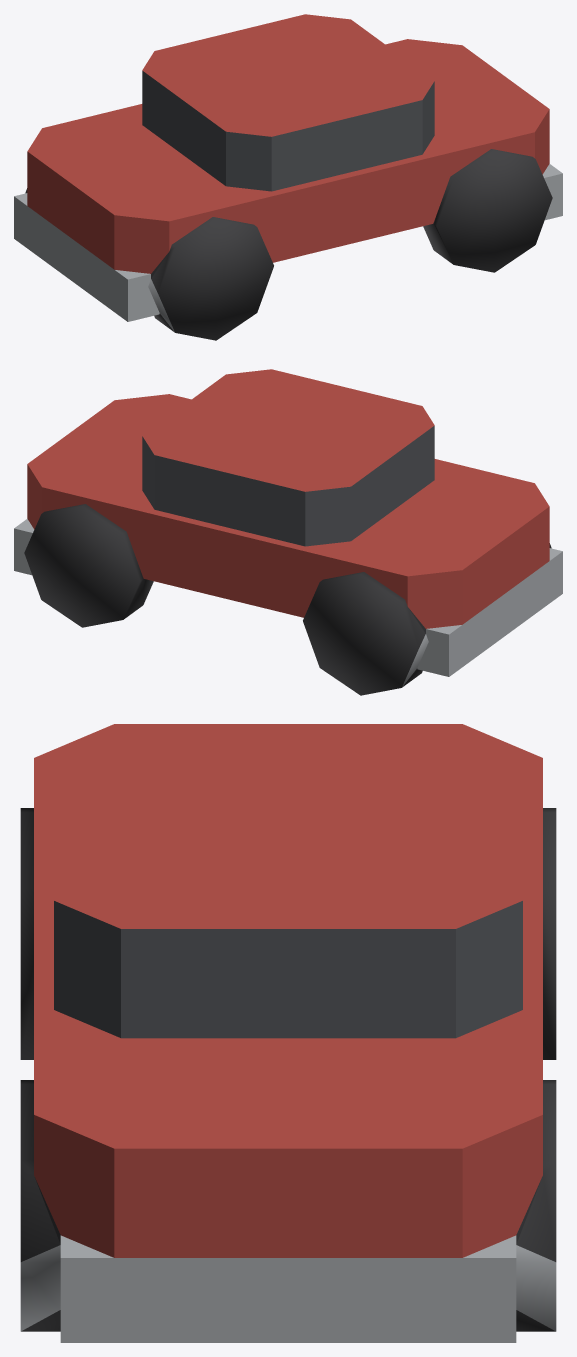
Rendered from toy_car_small.glb.
3 views of the same model, one above another, from view 1: azimuth 30°, elevation 25°; view 2: azimuth 150°, elevation 25°; view 3: azimuth 270°, elevation 25° (orthographic). The views are drawn at different scales.
Parts seen in each view (by area): view 1: toy_car_small; view 2: toy_car_small; view 3: toy_car_small.
Part boxes in pixels (<box>): toy_car_small: <box>14,14,562,340</box>; toy_car_small: <box>14,369,562,695</box>; toy_car_small: <box>20,724,556,1342</box>.
Bounding box in the file's own units: 0.15 × 0.06 × 0.08.
